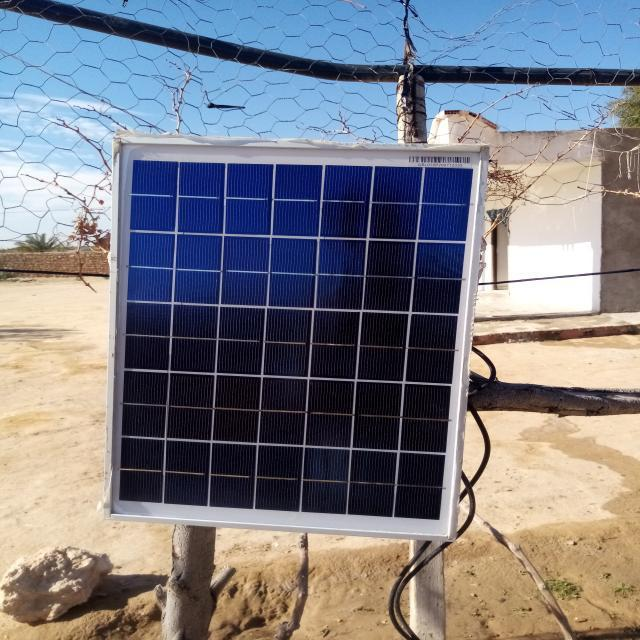Normal Solar Panel: (111, 140, 488, 542)
